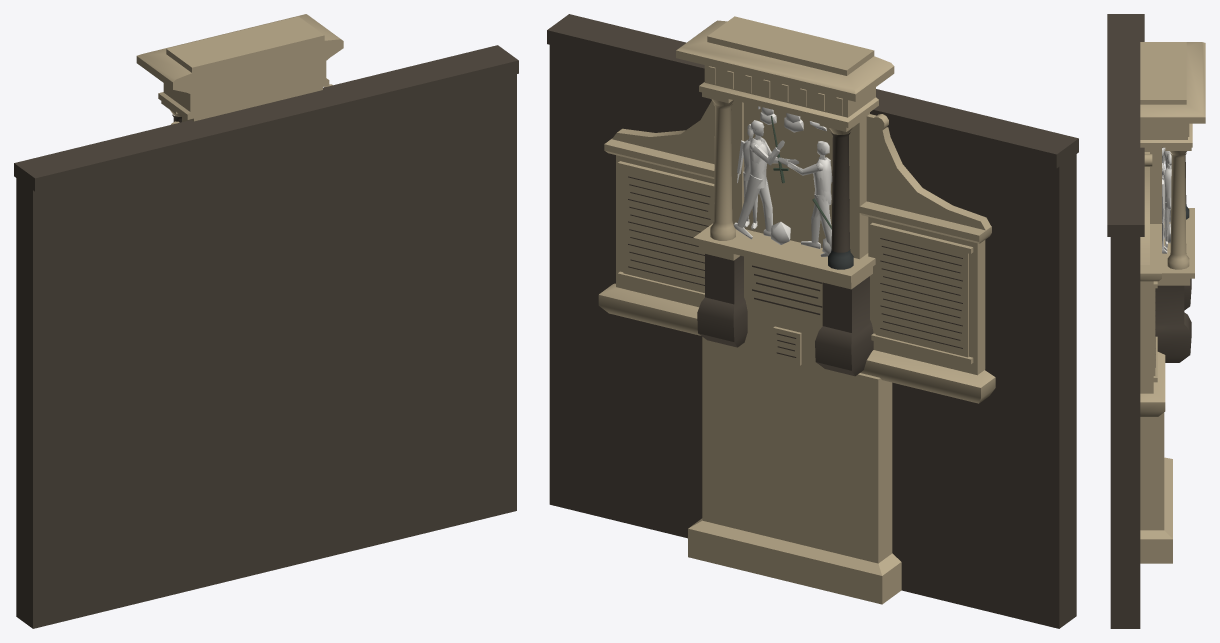
File: mon_moritzmonument.glb
The picture shows the model from 3 angles, left to right: view 1: azimuth 30°, elevation 25°; view 2: azimuth 150°, elevation 25°; view 3: azimuth 270°, elevation 25°; orthographic projection. The views are drawn at different scales.
Visible parts, largest first — view 1: mon_moritzmonument; view 2: mon_moritzmonument; view 3: mon_moritzmonument.
Part boxes in pixels (x1,y1,x2,y2): mon_moritzmonument: (14,14,518,628); mon_moritzmonument: (547,14,1078,628); mon_moritzmonument: (1107,14,1205,628).
Size of the model in its own units: 8.4 by 8.4 by 1.66.
